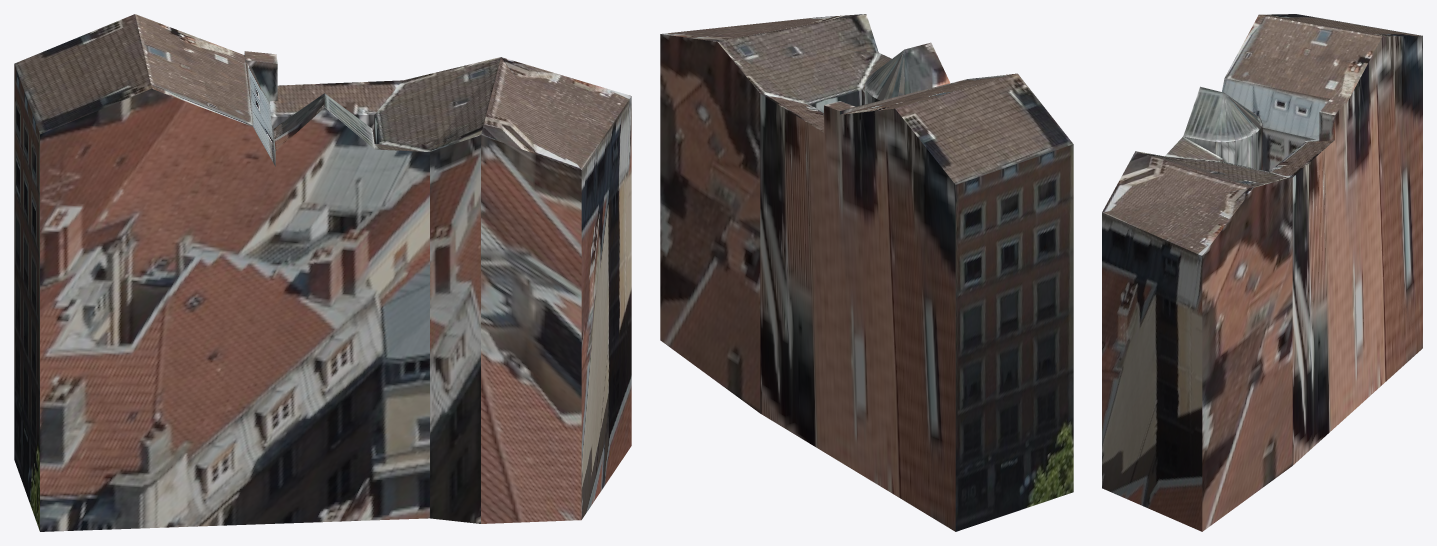
3 views of the same model, side by side, from view 1: azimuth 30°, elevation 25°; view 2: azimuth 150°, elevation 25°; view 3: azimuth 270°, elevation 25° (orthographic). The views are drawn at different scales.
Parts seen in each view (by area): view 1: Z_UP; view 2: Z_UP; view 3: Z_UP.
Part boxes in pixels (box(x1,y1,x2,y2)): Z_UP: box(14, 14, 631, 531); Z_UP: box(660, 14, 1073, 531); Z_UP: box(1102, 14, 1422, 531).
Bounding box in the file's own units: 31.43 × 24.93 × 20.83.
2 materials, 1 textured.
